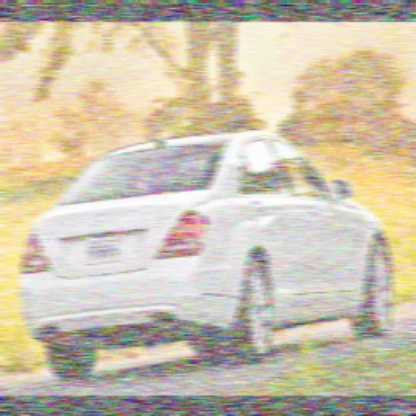Vehicle: (18, 126, 395, 383)
